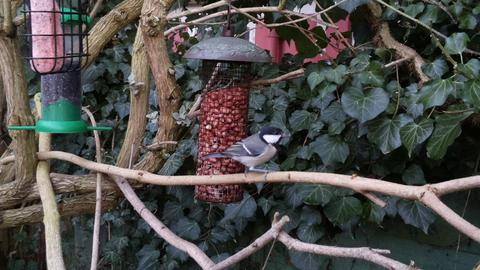great tit: (200, 126, 292, 181)
